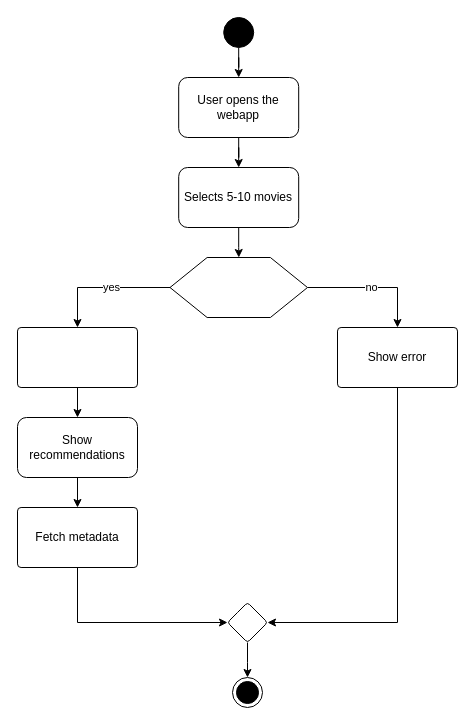
Image size: 475x725. Some labels were removed from this diagram. The centre of each missing label's shape, as x and y in pixels:
"Generate recommendations" belongs at (x=77, y=357).
"Valid selection?" belongs at (x=238, y=287).
